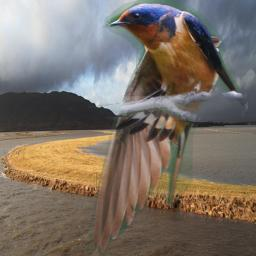Swallow: (88, 0, 248, 253)
